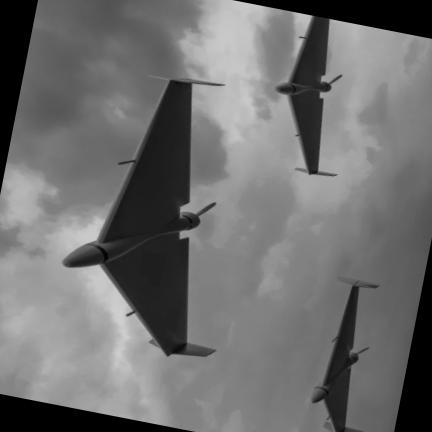Shahed: (62, 78, 224, 356), (311, 276, 379, 431), (275, 16, 341, 175)
